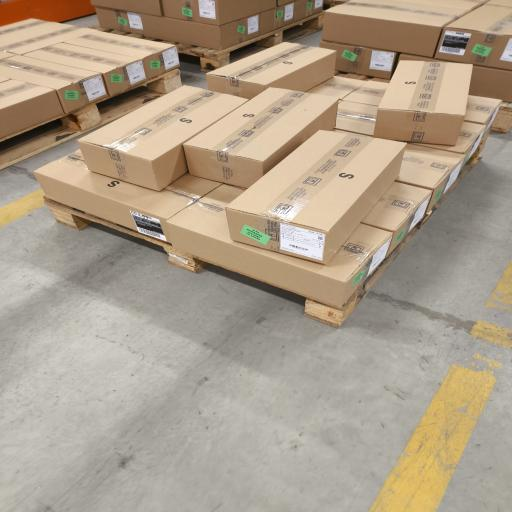pallet: (305, 152, 481, 328), (304, 152, 480, 327), (0, 69, 181, 169), (90, 13, 323, 71), (44, 197, 207, 273), (492, 102, 511, 132), (338, 73, 389, 82)
